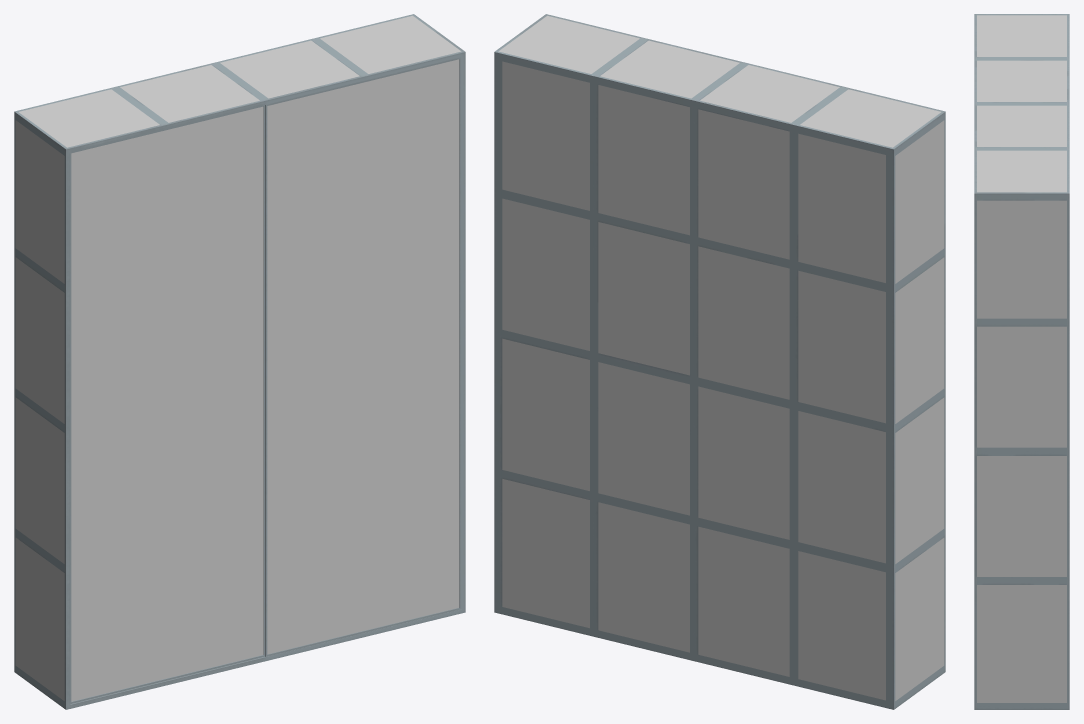
The model's file is Storage 2.fbx.
3 renders of one model, left to right at view 1: azimuth 30°, elevation 25°; view 2: azimuth 150°, elevation 25°; view 3: azimuth 270°, elevation 25°, orthographic. The views are drawn at different scales.
Visible parts, largest first — view 1: storage, storage.001, storage.002; view 2: storage.002; view 3: storage.002.
Boxes of the visible parts, x1,y1,x2,y2 form: storage: (265,57,461,656); storage.001: (70,105,264,703); storage.002: (14,14,465,709); storage.002: (494,14,945,709); storage.002: (974,14,1069,709).
Size of the model in its own units: 196 by 262 by 43.99.
2 materials, 1 textured.
